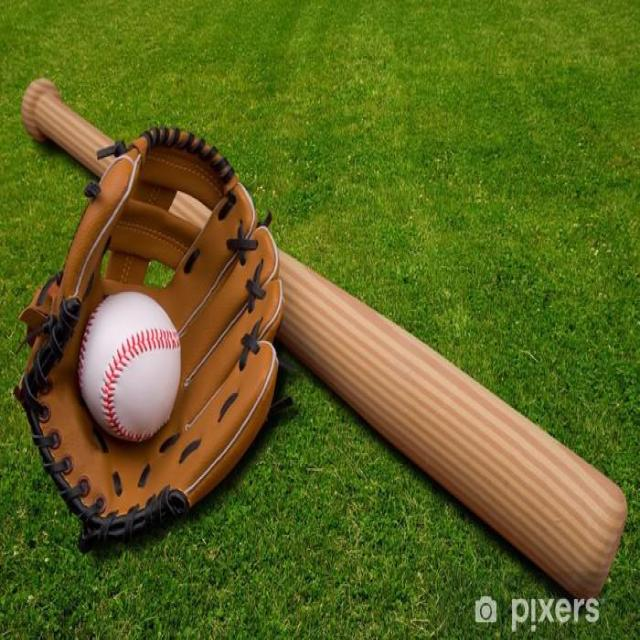ball: (80, 287, 184, 448)
